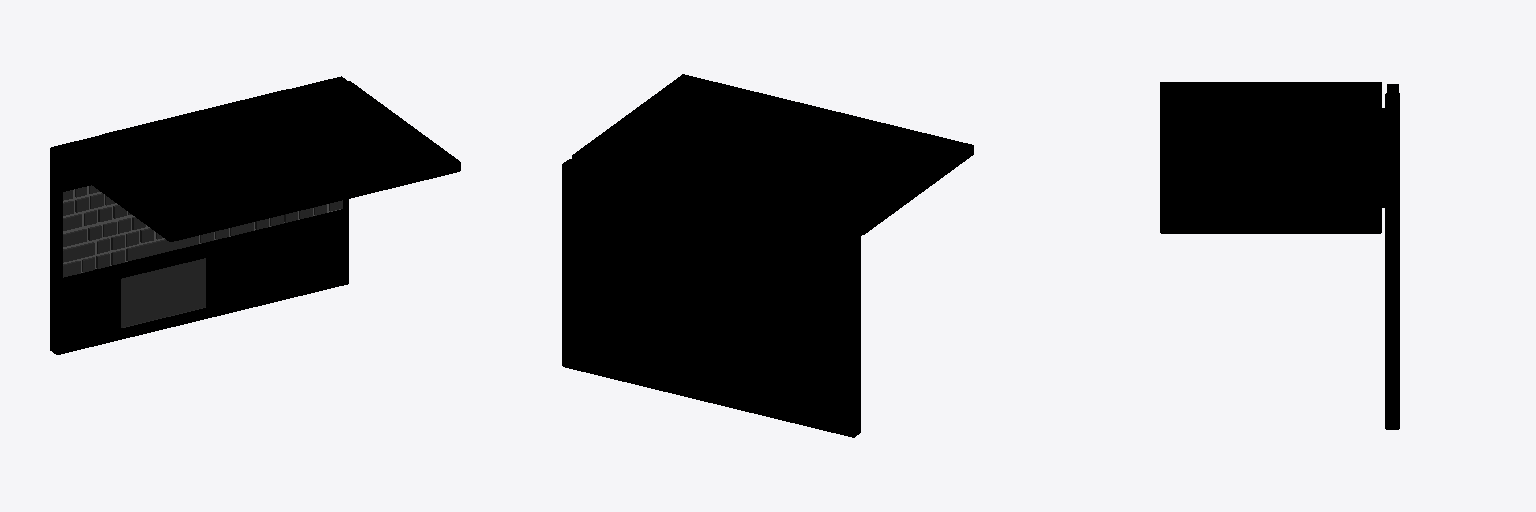
3 renders of one model, left to right at view 1: azimuth 30°, elevation 25°; view 2: azimuth 150°, elevation 25°; view 3: azimuth 270°, elevation 25°, orthographic.
Parts seen in each view (by area): view 1: material_0, material_2; view 2: material_0; view 3: material_0.
Part boxes in pixels (x1,y1,x2,y2): material_0: (50, 76, 460, 354); material_2: (63, 186, 340, 272); material_0: (562, 74, 973, 437); material_0: (1160, 82, 1399, 429).
Size of the model in its own units: 4.15 by 2.78 by 2.95.
3 materials, 1 textured.